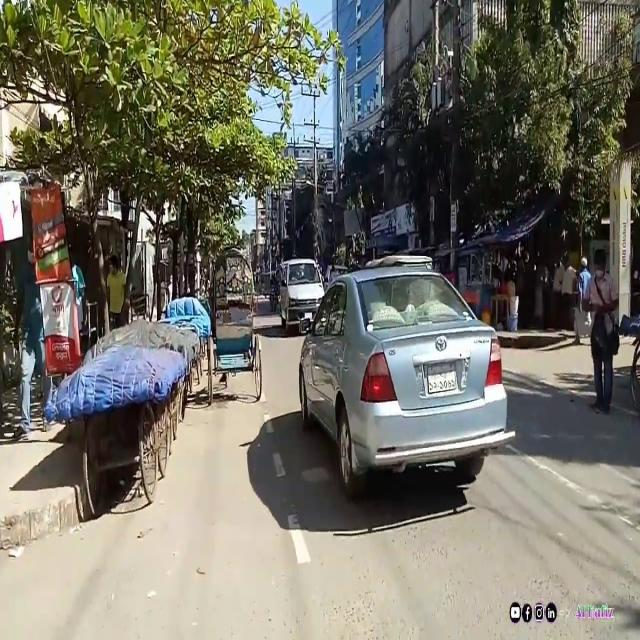silver: (310, 272, 510, 478)
white: (277, 256, 329, 326)
